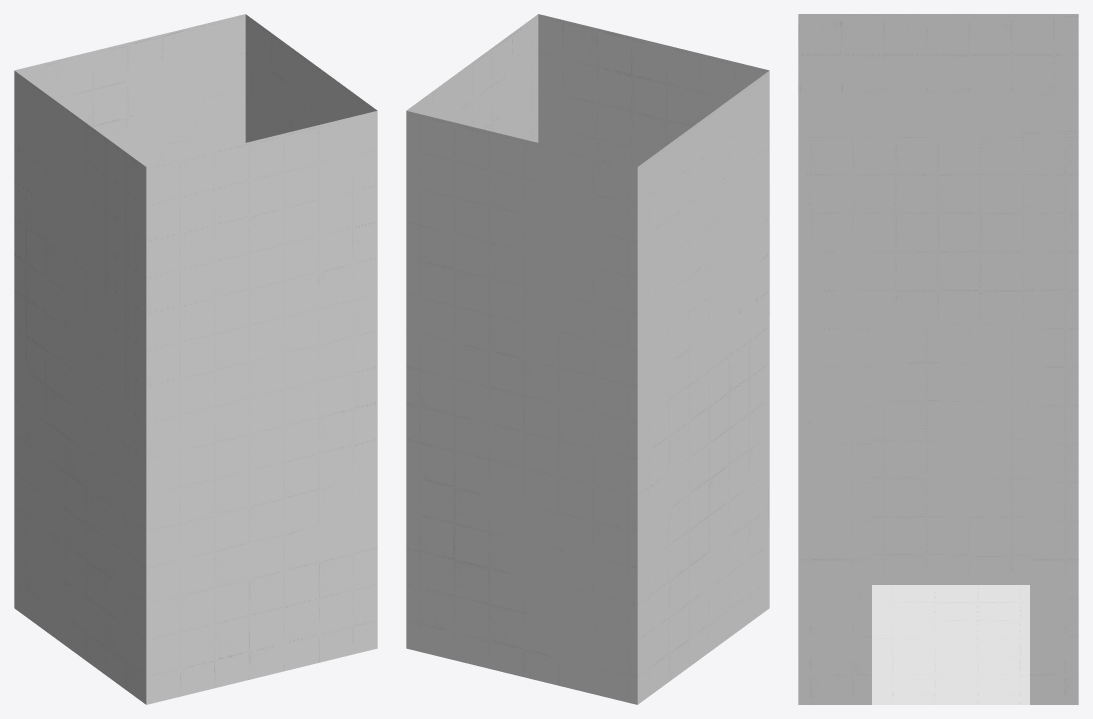
File: CUA003.obj
3 views of the same model, side by side, from view 1: azimuth 30°, elevation 25°; view 2: azimuth 150°, elevation 25°; view 3: azimuth 270°, elevation 25° (orthographic). The views are drawn at different scales.
Parts seen in each view (by area): view 1: Mesh1 CUA03 Model; view 2: Mesh1 CUA03 Model; view 3: Mesh1 CUA03 Model.
Boxes of the visible parts, bbox=[...] form: Mesh1 CUA03 Model: bbox=[14, 14, 377, 704]; Mesh1 CUA03 Model: bbox=[406, 14, 769, 704]; Mesh1 CUA03 Model: bbox=[798, 14, 1078, 704].
Bounding box in the file's own units: 1.36 × 3.02 × 1.34.
Materials: 2 (1 with a texture image).
